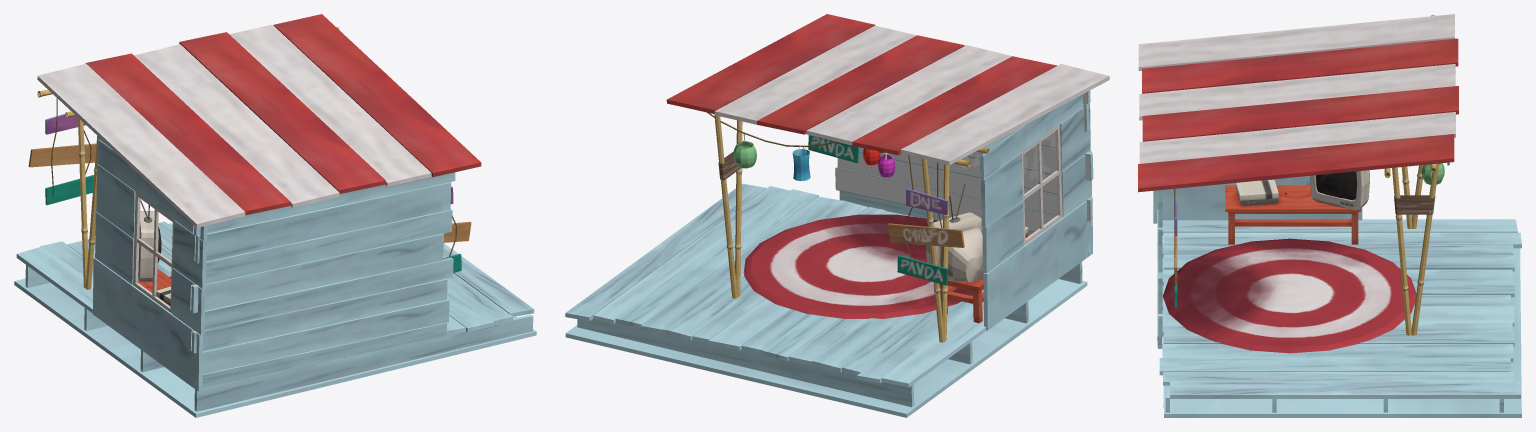
The model's file is ETC0610048.fbx.
3 renders of one model, left to right at view 1: azimuth 30°, elevation 25°; view 2: azimuth 150°, elevation 25°; view 3: azimuth 270°, elevation 25°, orthographic.
Parts seen in each view (by area): view 1: smETC0610048; view 2: smETC0610048; view 3: smETC0610048.
Part boxes in pixels (x1,y1,x2,y2): smETC0610048: [14, 14, 536, 417]; smETC0610048: [565, 14, 1109, 417]; smETC0610048: [1138, 14, 1521, 417].
Bounding box in the file's own units: 526 × 328 × 486.
1 material, 1 textured.
